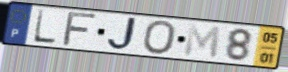8: (224, 27, 255, 63)
F: (60, 11, 100, 48)
J: (105, 16, 142, 52)
L: (31, 8, 59, 46)
M: (182, 23, 223, 61)
O: (141, 19, 178, 56)
